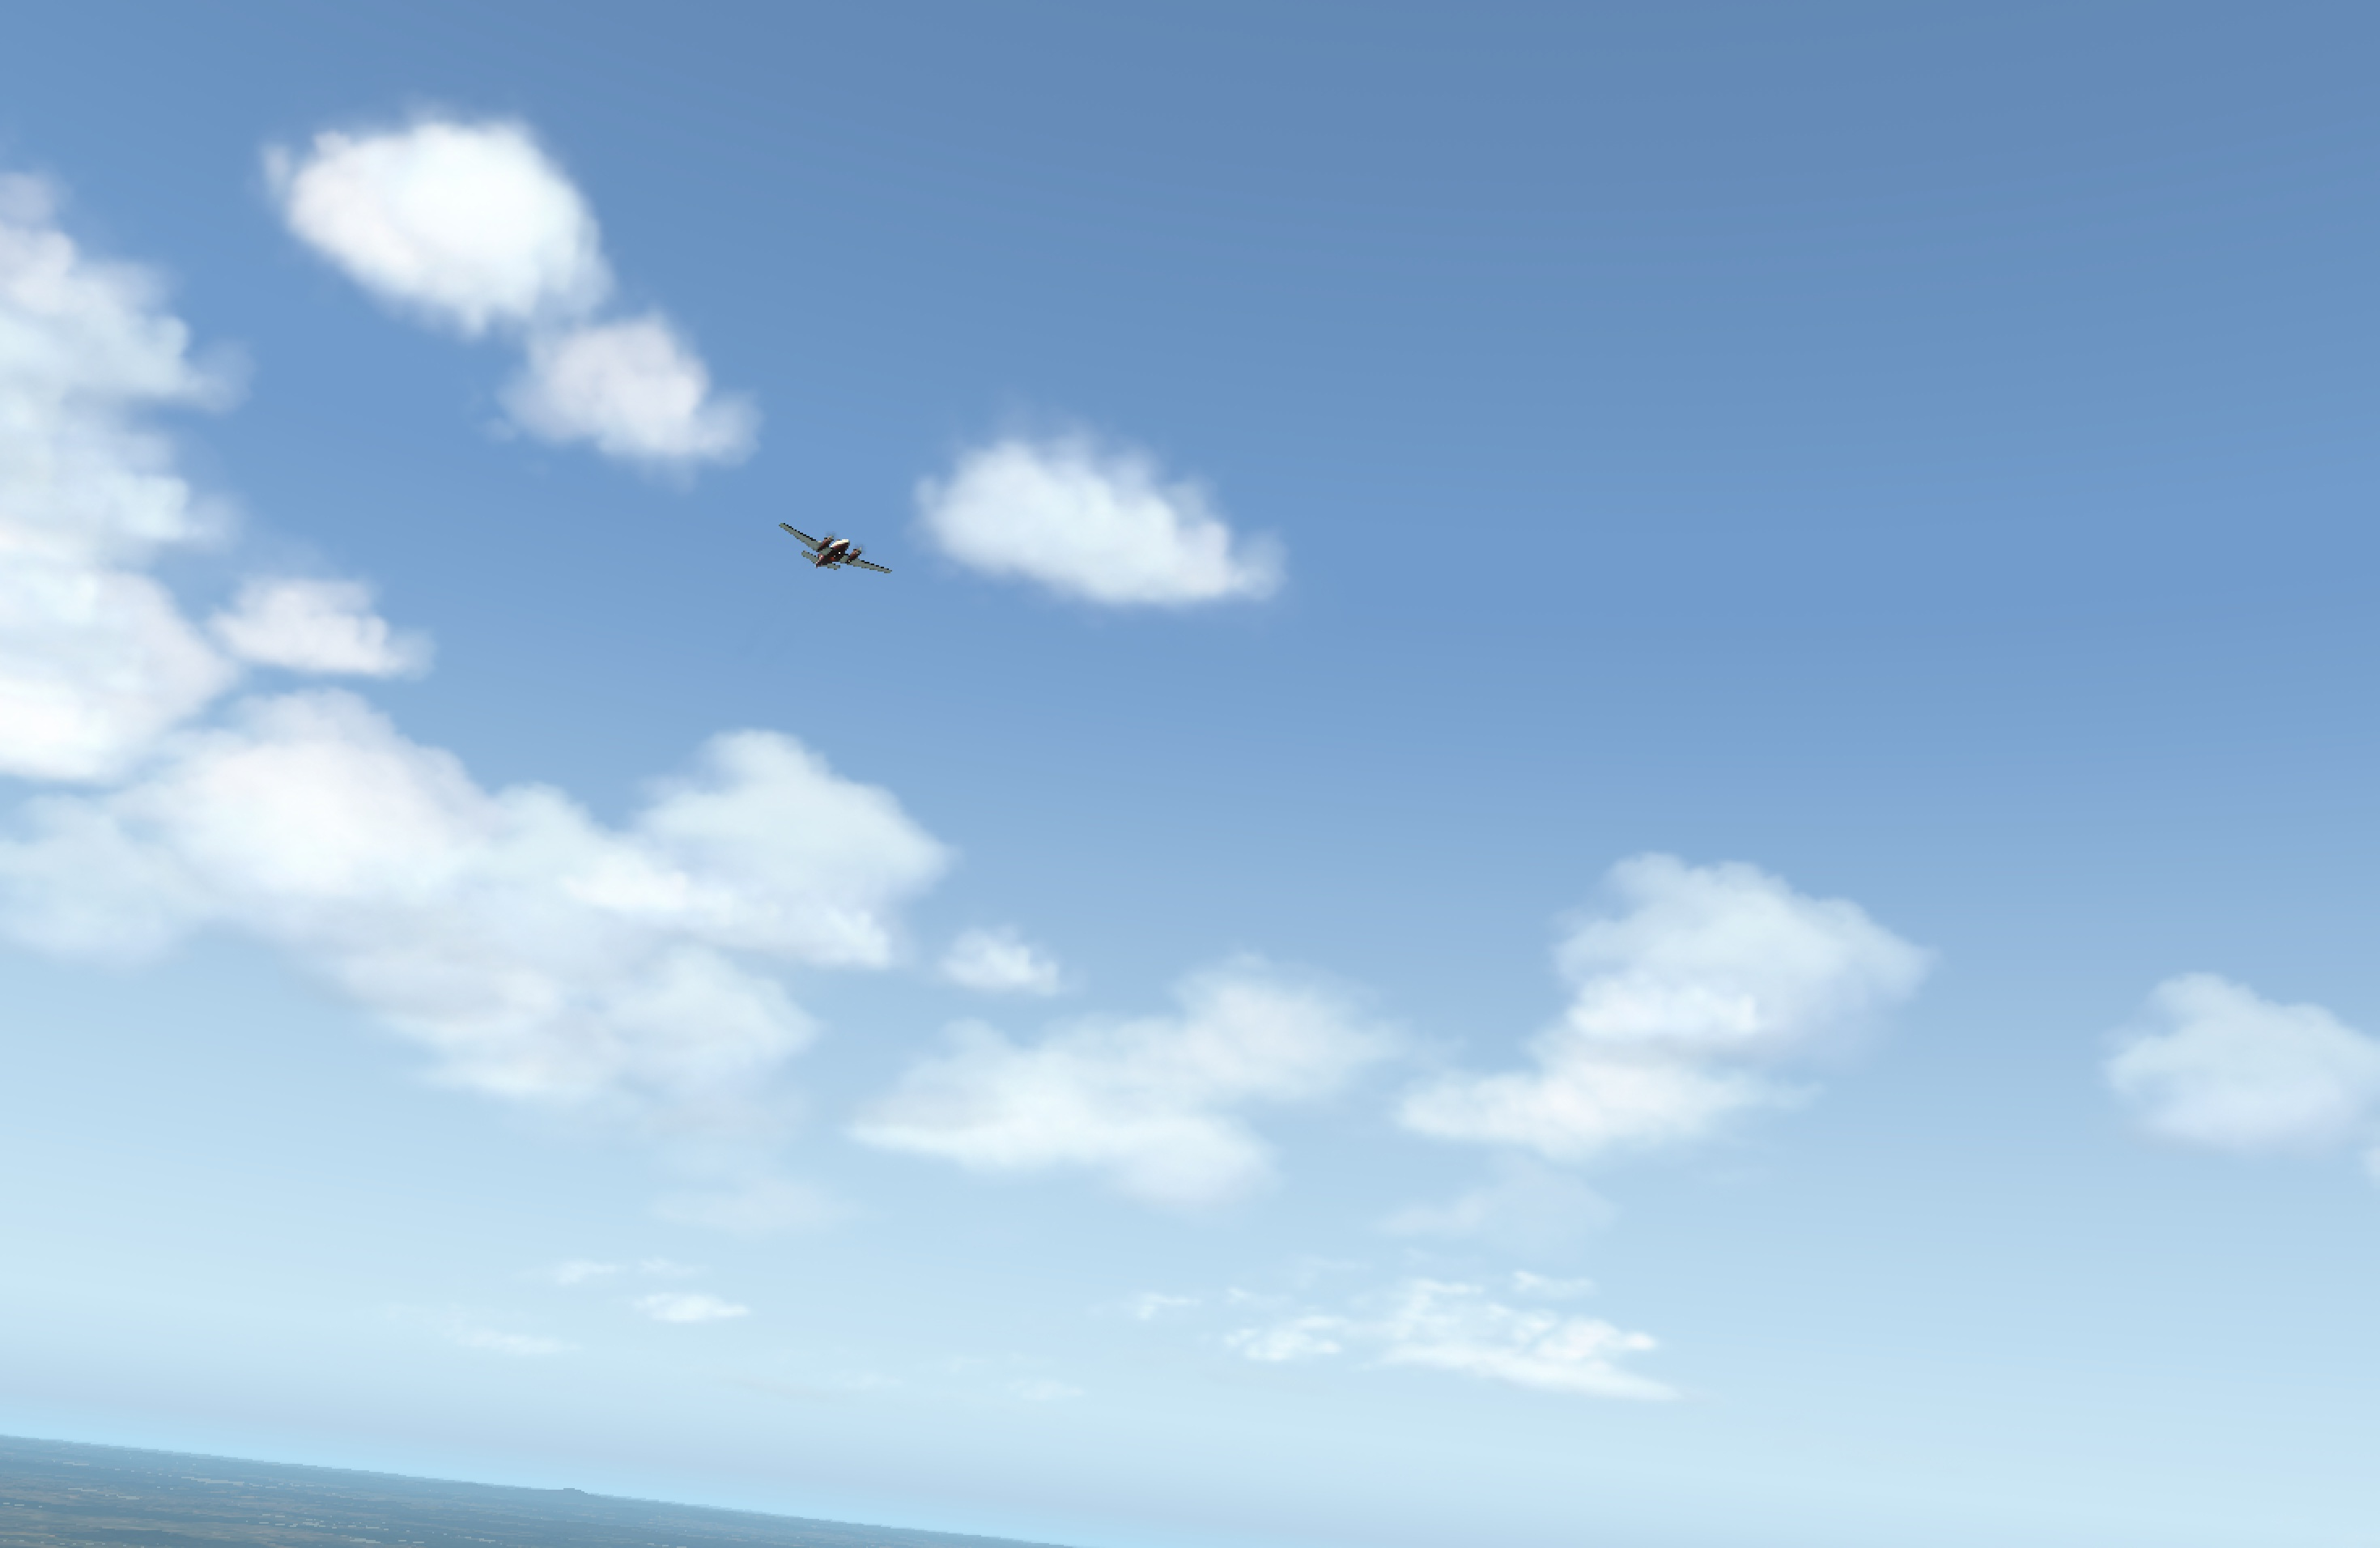aircraft: (775, 531, 899, 576)
